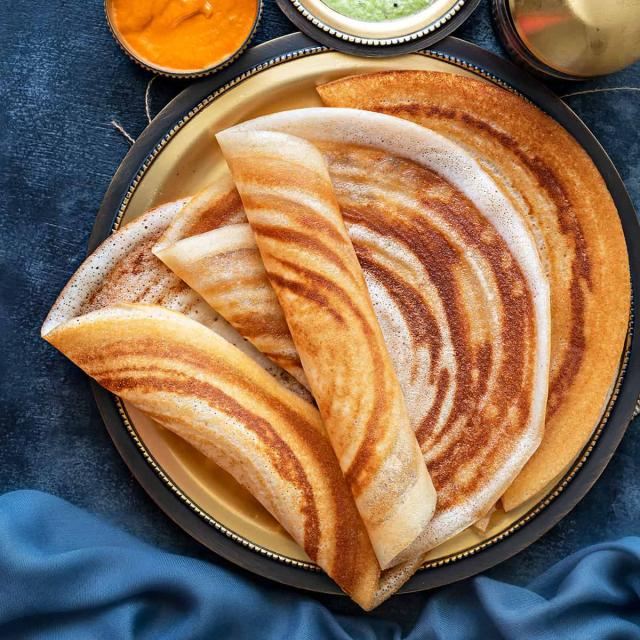DOSA: (43, 302, 379, 606)
